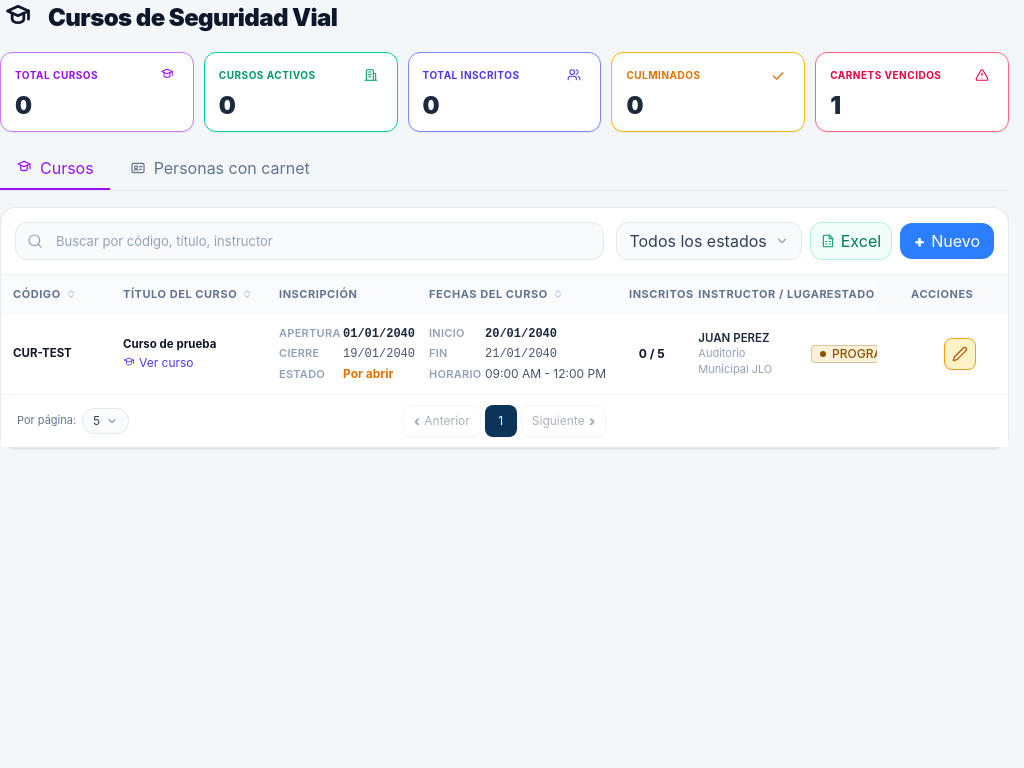
Test: Cursos: botones y registro de carnet centralizado › edita usando UUID y cierra solo tras guardar
The image size is (1024, 768).
Click the button titled "Editar Curso".
click(960, 354)  # box x1=944 y1=338 x2=976 y2=370
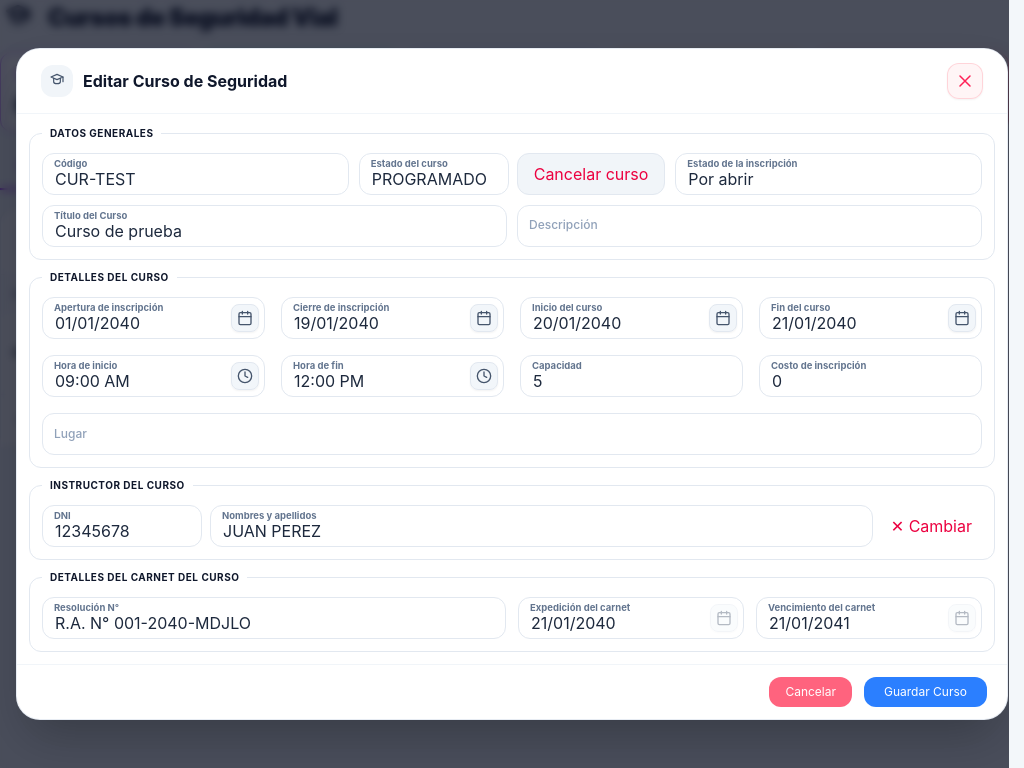
Submit the form
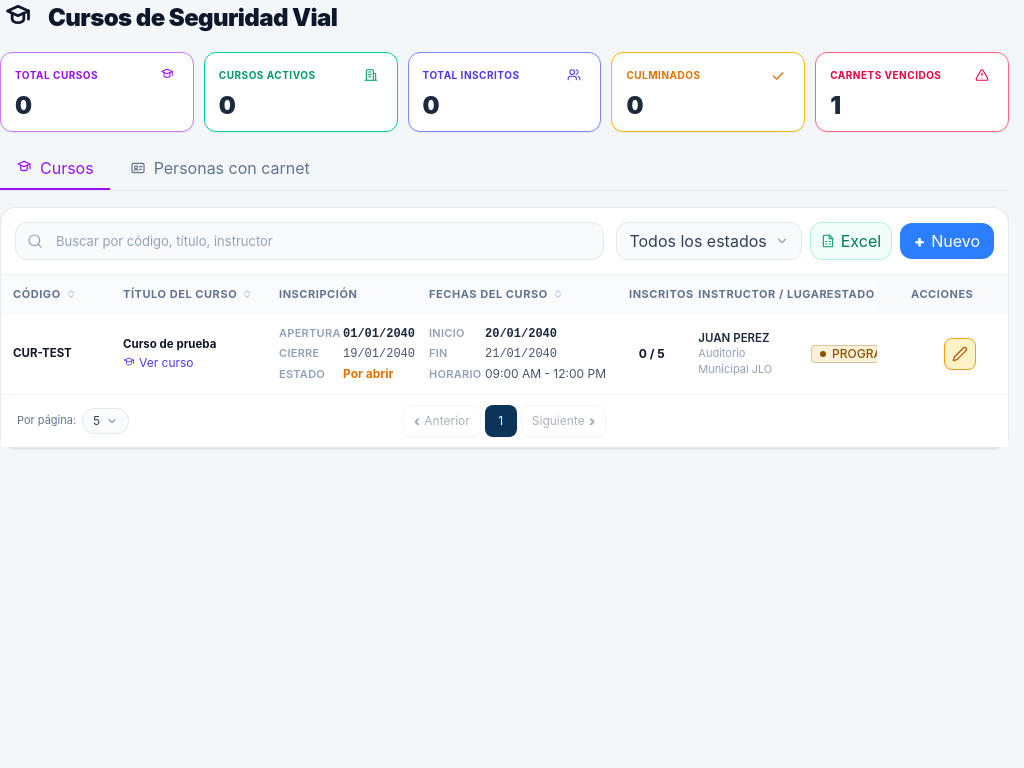
Expected: the form is gone
